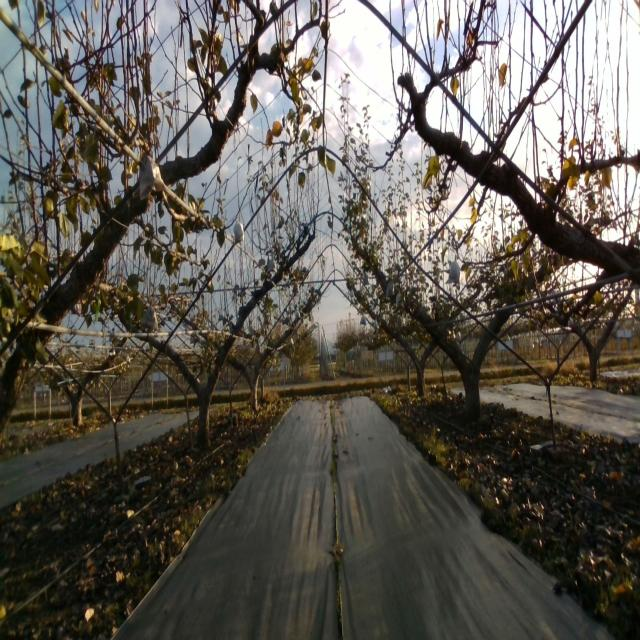pearbags: (139, 155, 167, 200), (445, 255, 461, 285), (233, 218, 246, 244), (266, 255, 278, 274)
